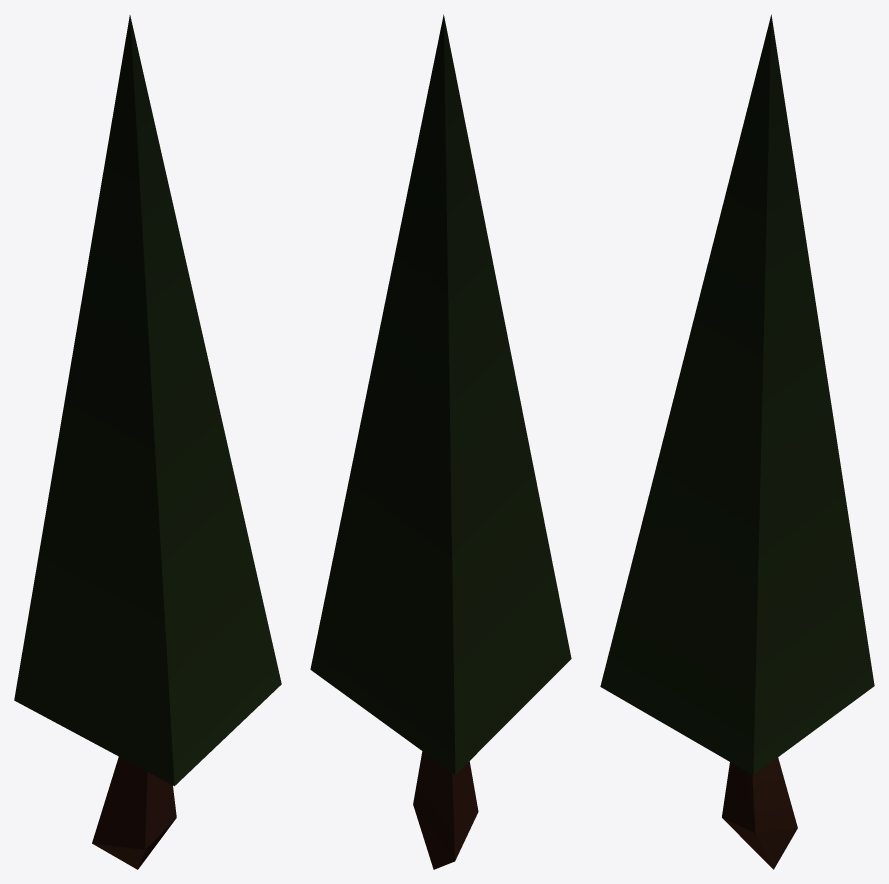
File: c_tree_pine_ac.fbx
3 renders of one model, left to right at view 1: azimuth 30°, elevation 25°; view 2: azimuth 150°, elevation 25°; view 3: azimuth 270°, elevation 25°, orthographic.
Visible parts, largest first — view 1: c_tree_pine_ac; view 2: c_tree_pine_ac; view 3: c_tree_pine_ac.
Boxes of the visible parts, x1,y1,x2,y2 form: c_tree_pine_ac: (14, 15, 281, 869); c_tree_pine_ac: (310, 14, 571, 869); c_tree_pine_ac: (600, 14, 874, 869).
Size of the model in its own units: 3.11 by 12.38 by 3.61.
